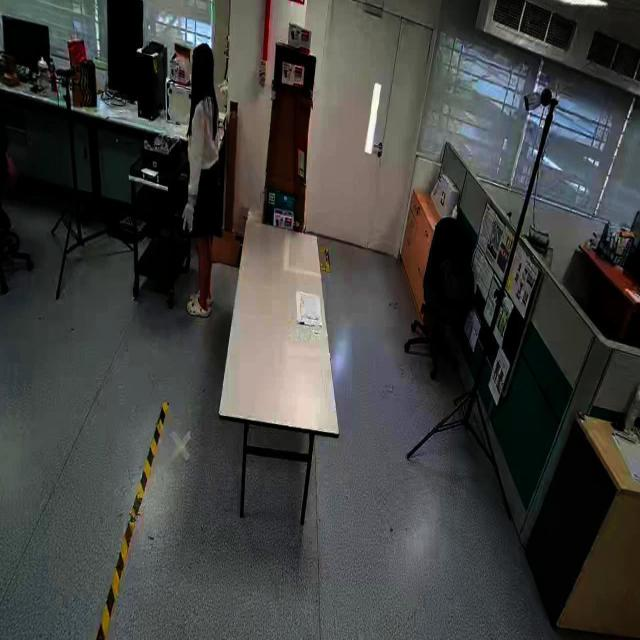hand_glove: (178, 195, 200, 239)
head_nohelmet: (191, 42, 213, 63)
person: (176, 37, 227, 336)
